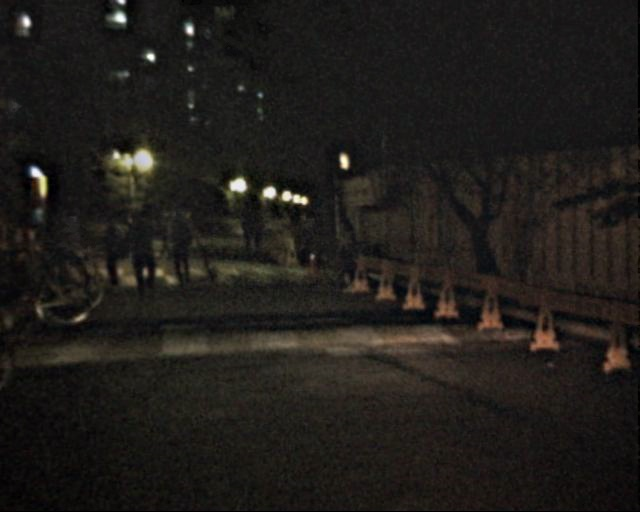person: (329, 215, 363, 297), (54, 212, 86, 289), (128, 214, 158, 288), (169, 213, 198, 284), (98, 211, 126, 280), (156, 208, 175, 255), (246, 213, 263, 255), (237, 214, 253, 254)
